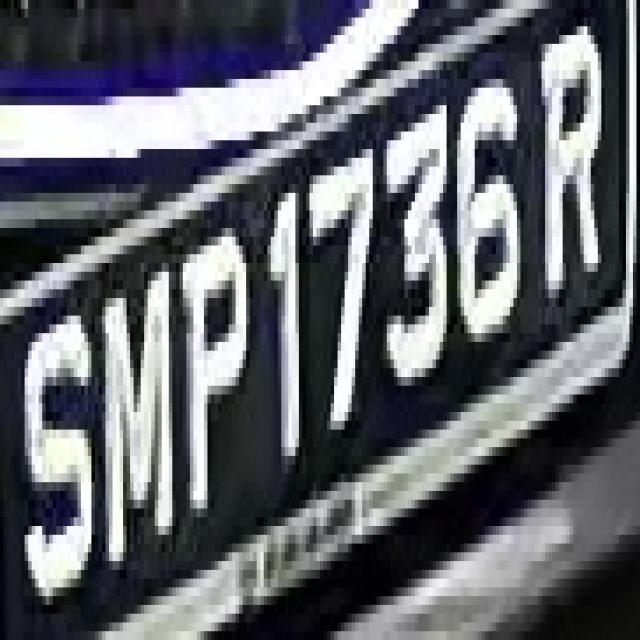1: (264, 167, 306, 491)
3: (380, 96, 460, 394)
6: (454, 44, 524, 386)
7: (303, 131, 377, 421)
M: (98, 237, 176, 570)
P: (179, 210, 243, 535)
R: (534, 18, 605, 333)
S: (18, 298, 98, 614)
